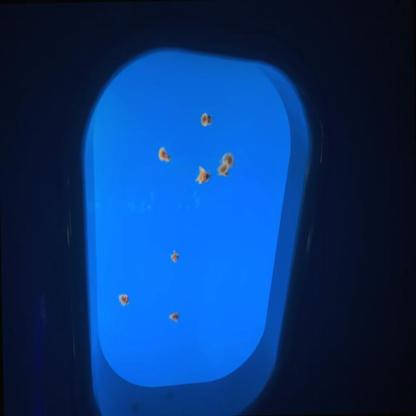jellyfish: (194, 164, 212, 184), (221, 151, 235, 169), (216, 158, 229, 177), (157, 146, 172, 162), (199, 112, 212, 127), (118, 293, 130, 306), (170, 249, 180, 263), (168, 310, 179, 322)
